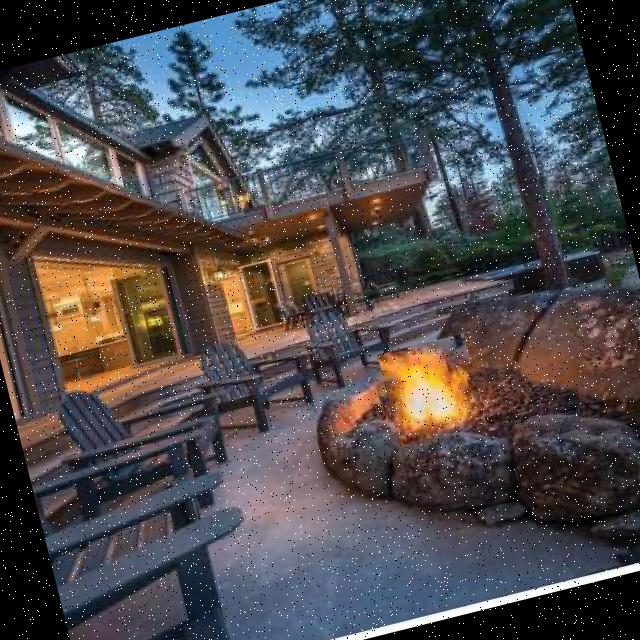fire: (377, 332, 486, 446)
